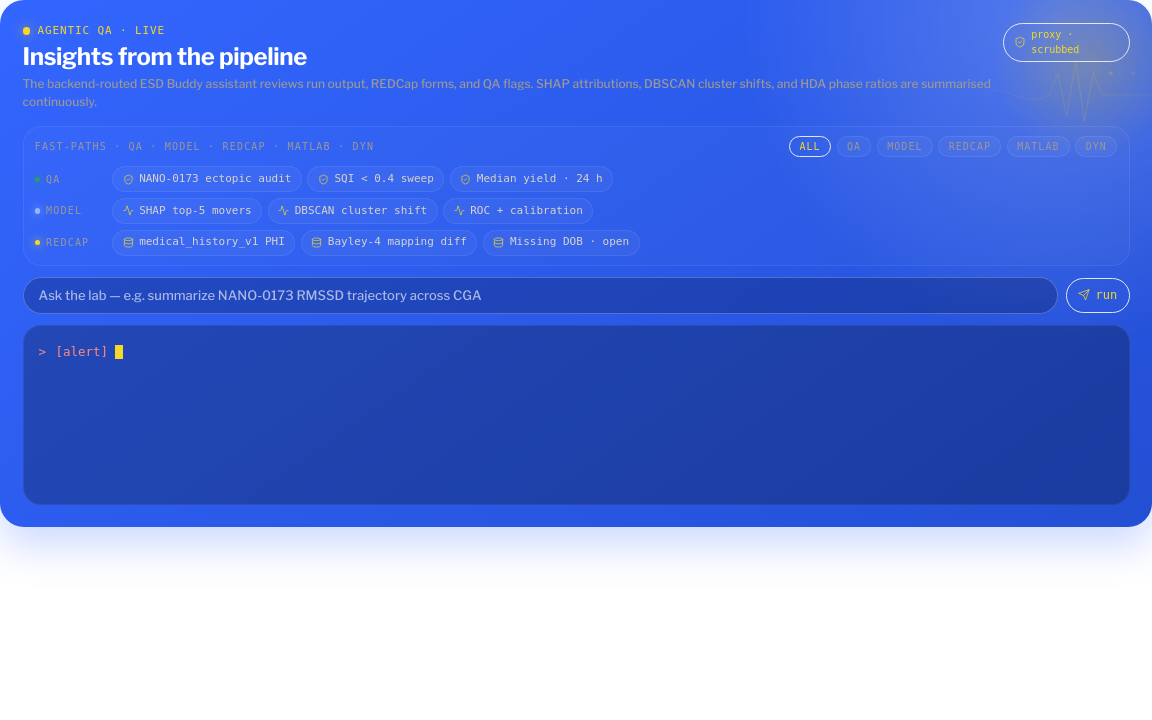
AgenticQAPanel › uses the shared assistant stream and keeps the browser redaction indicator
The width and height of the screenshot is (1152, 720).
Replace the text in the field named "agentic qa prompt" with "Review DOB 2026-04-25" at (540, 295), box [22,277,1058,314]
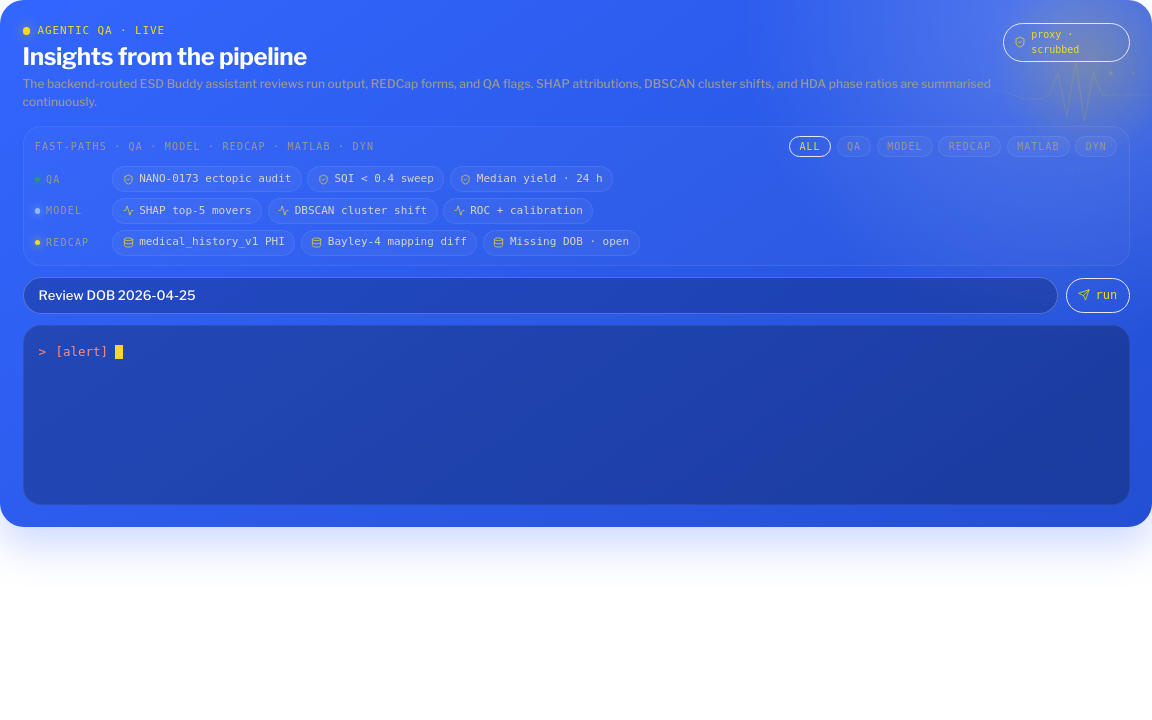
Click the button "run" at (1098, 295), box [1066,278,1130,313]
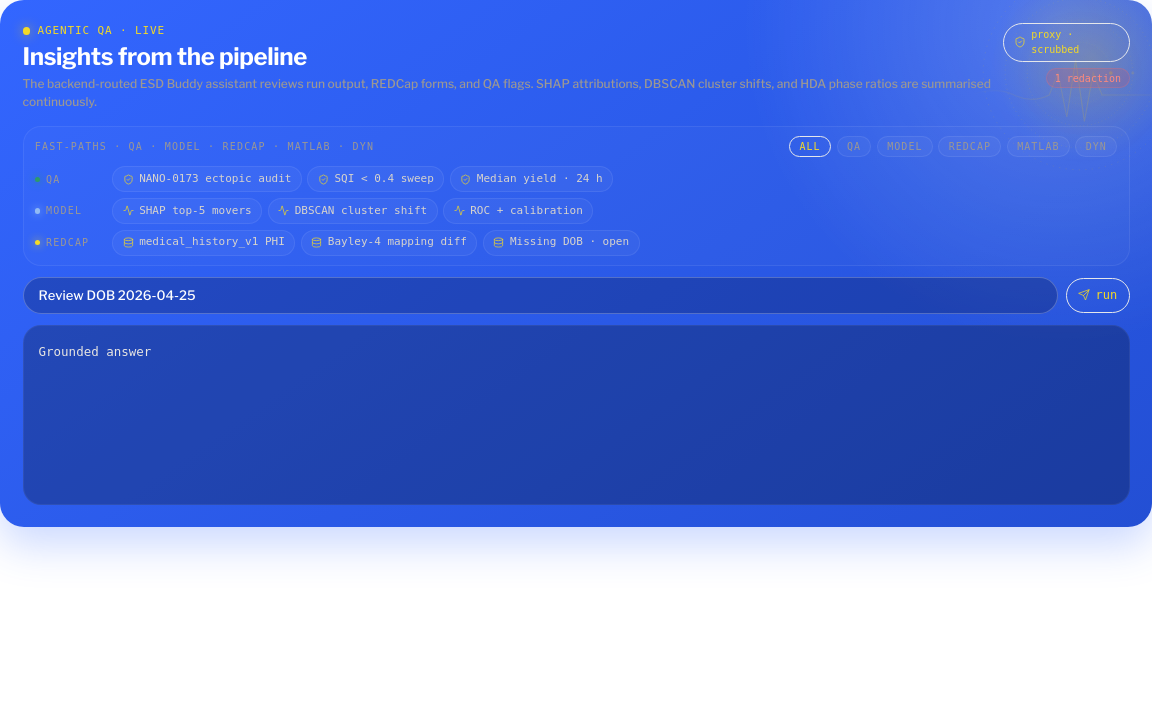
Result: the text "1 redaction" is shown at [1046,68,1130,88]
Result: the text "Grounded answer" is shown at [38,344,151,359]
